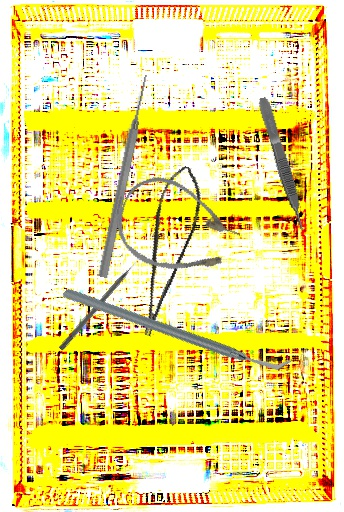Cannula: (105, 166, 250, 293)
Chopper: (61, 214, 294, 443)
Micro Scissor: (112, 161, 216, 339)
Pusher: (96, 73, 153, 279), (58, 255, 144, 352)
Tissue Forceps: (256, 95, 308, 233)
